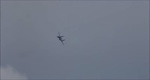maybay_muctieu: (56, 32, 66, 45)
